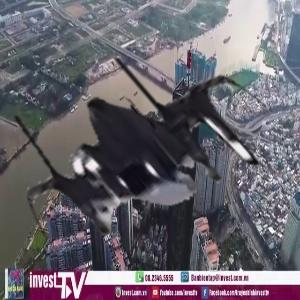drone: (5, 20, 279, 294)
